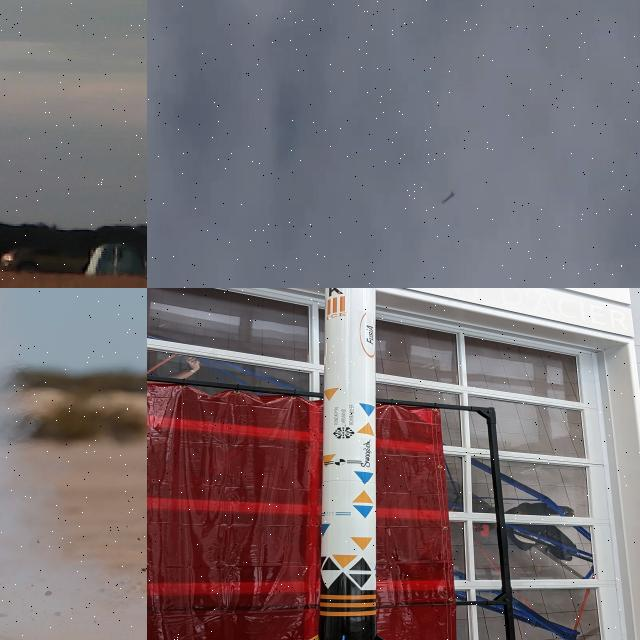Rocket: (309, 288, 386, 640), (441, 190, 455, 204)
